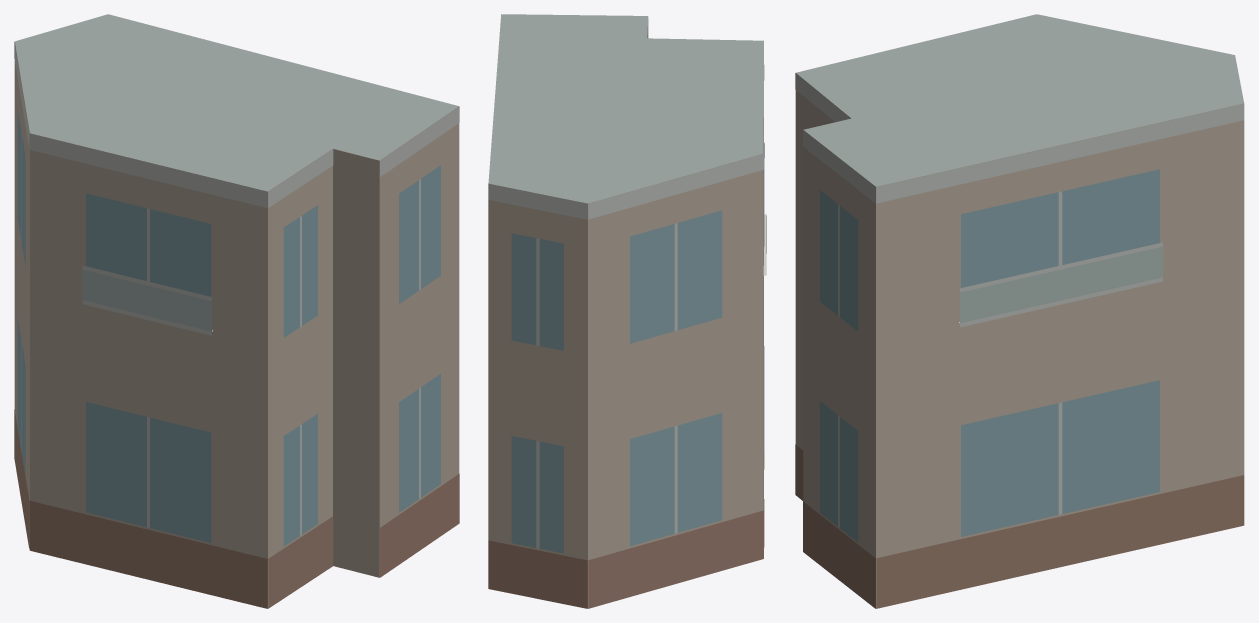
Rendered from survey-upis-32612901.glb.
3 views of the same model, side by side, from view 1: azimuth 30°, elevation 25°; view 2: azimuth 150°, elevation 25°; view 3: azimuth 270°, elevation 25° (orthographic). The views are drawn at different scales.
Parts seen in each view (by area): view 1: survey-upis-32612901.tmp; view 2: survey-upis-32612901.tmp; view 3: survey-upis-32612901.tmp.
Part boxes in pixels (left/top/right/bottom): survey-upis-32612901.tmp: left=14, top=14, right=459, bottom=608; survey-upis-32612901.tmp: left=488, top=14, right=766, bottom=608; survey-upis-32612901.tmp: left=795, top=14, right=1244, bottom=608.
Bounding box in the file's own units: 5.36 × 6.1 × 5.89.
